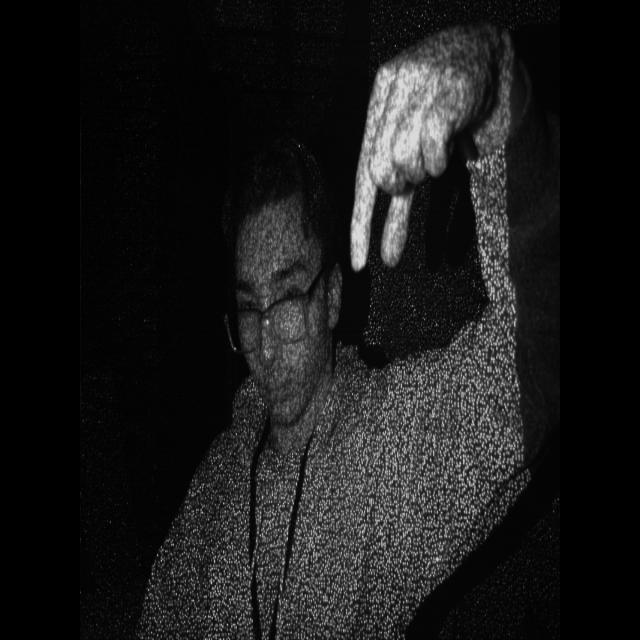Q: (342, 6, 506, 280)
